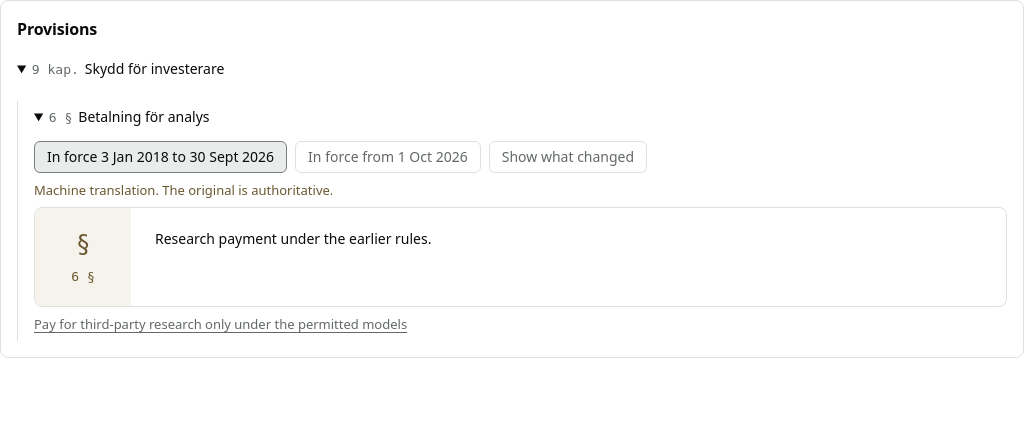
Test: ProvisionTree › opens the diff through "Show what changed", naming the two versions it compares and labelling a machine translation
Expected: the heading "6 §Betalning för analys" is shown, [49, 107, 210, 126]
Step 1. Click the button "Show what changed" → {"x": 568, "y": 157}, box [489, 141, 647, 173]
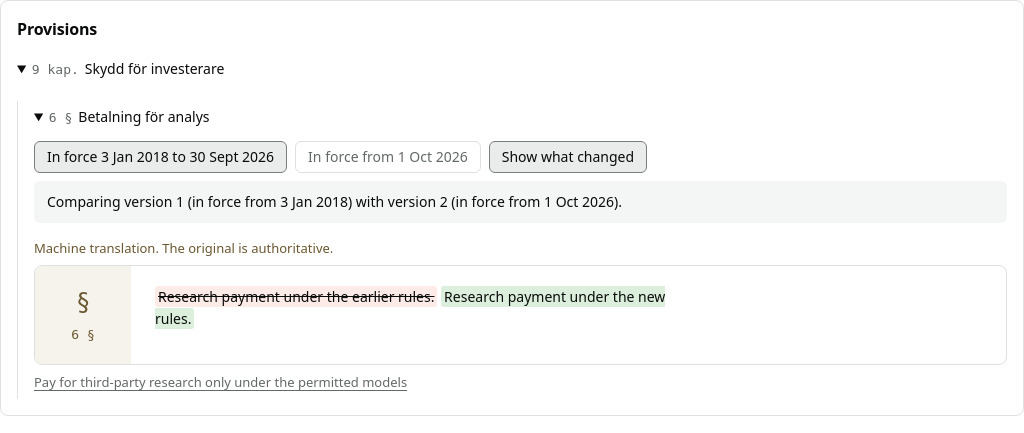
Expected: the text "Research payment under the new rules." is shown, [155, 286, 665, 329]
Expected: the message shows "Comparing version 1 (in force from 3 Jan 2018) with version 2 (in force from 1 Oct 2026).", [47, 192, 622, 211]
